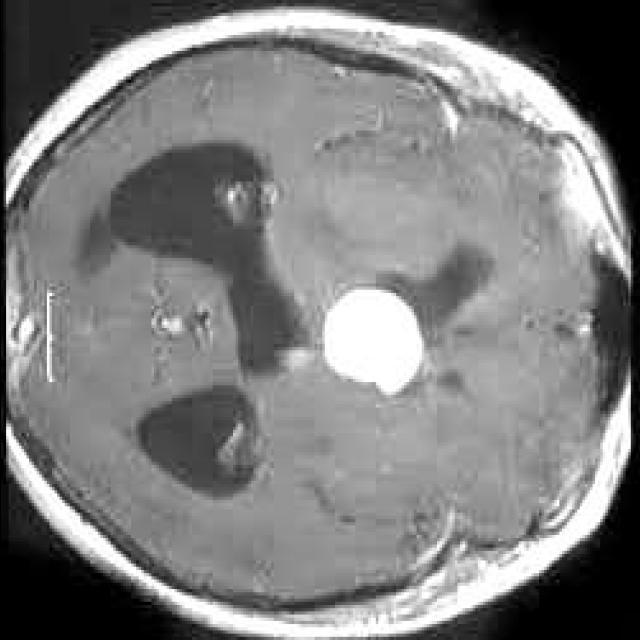tumor: (319, 287, 423, 398)
